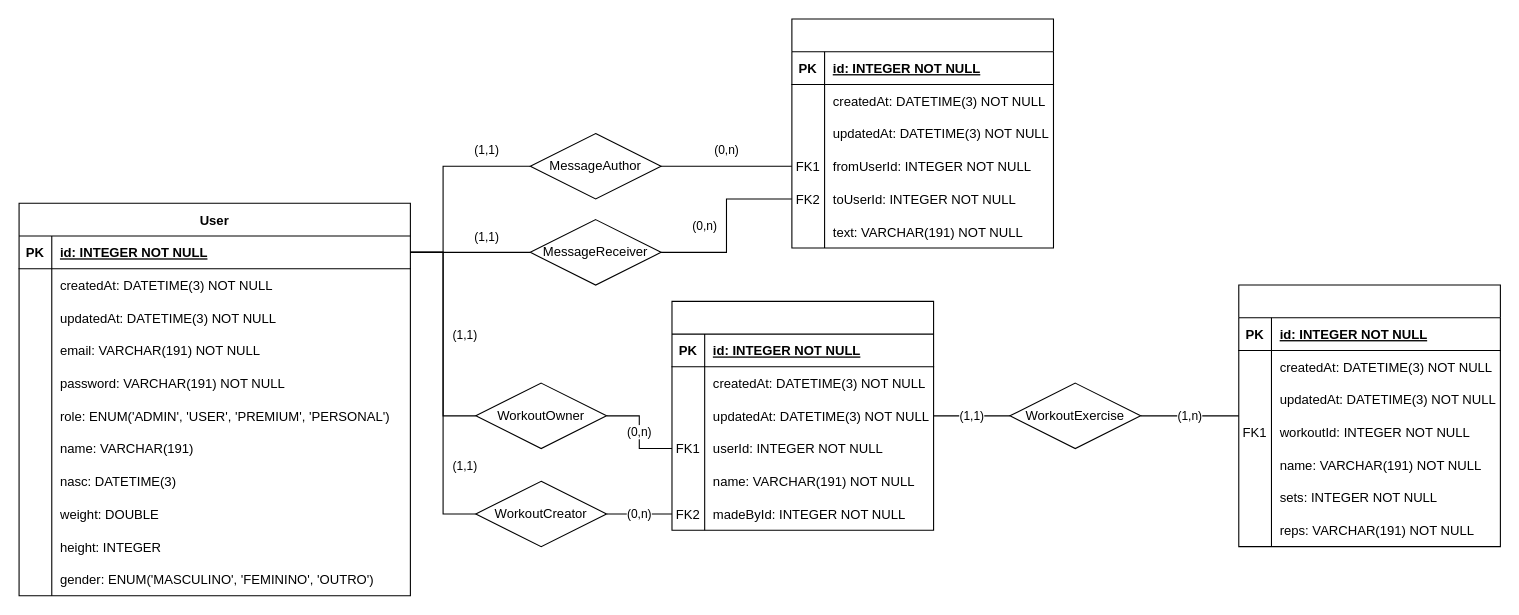
Image size: 1519x615. Some labels were removed from this diagram. The shapes that lost their labels are listed below. From the top down, each one's box as (x1, y1, x2, y2) in pixels, then its label:
(791, 18, 1053, 248): Message
(671, 300, 934, 530): Workout
(1238, 284, 1500, 547): Exercise
